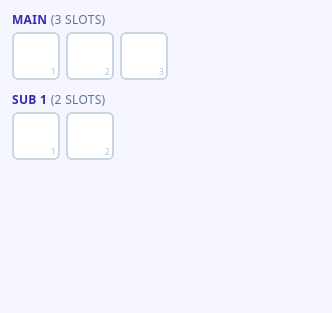
Tape › clicking a slot with no tool armed opens an instruction menu
This screenshot has width=332, height=313.
Click the button with test id "slot--1-0".
click(36, 56)  # box left=12, top=32, right=60, bottom=80
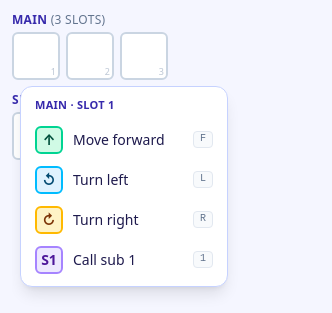
Click the menu item with test id "pick-TURN_RIGHT".
click(124, 220)  # box left=27, top=200, right=221, bottom=240
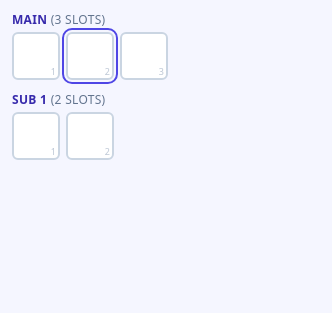
Expected: the menu with test id "slot-picker" is gone
